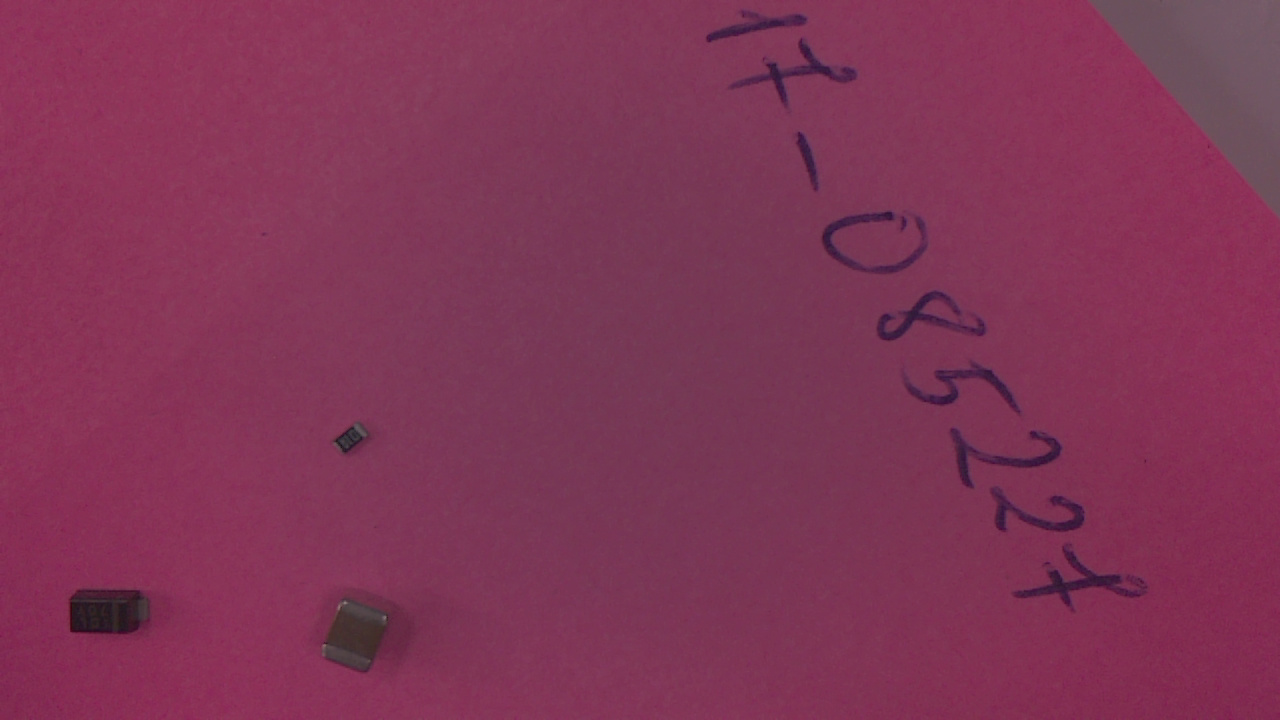Condensator: (319, 604, 397, 682)
Diode: (68, 588, 160, 643)
Resistor: (335, 425, 376, 463)
